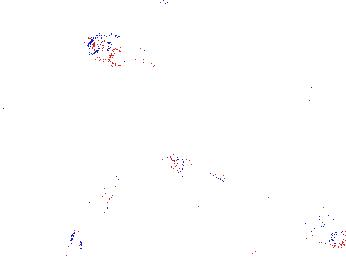X-ray fish: (80, 29, 152, 66)
glassfish: (65, 174, 124, 257), (161, 151, 239, 193)
red belly glassfish: (158, 1, 189, 8)
